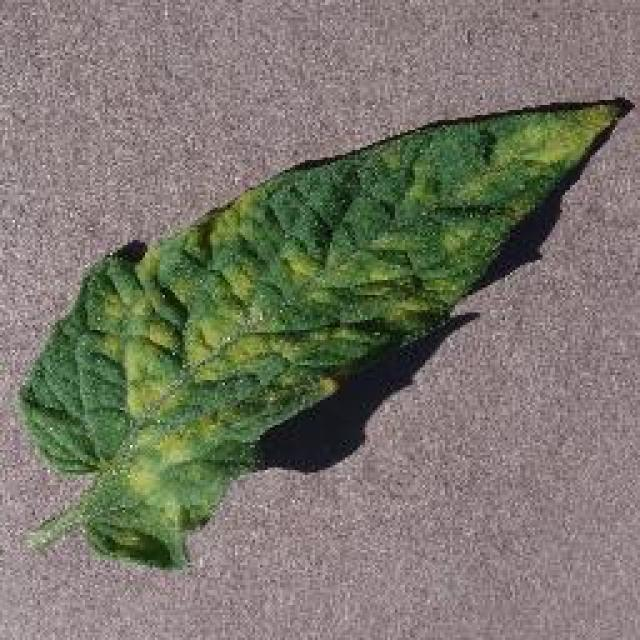Tomato___Leaf_Mold: (20, 100, 622, 565)
